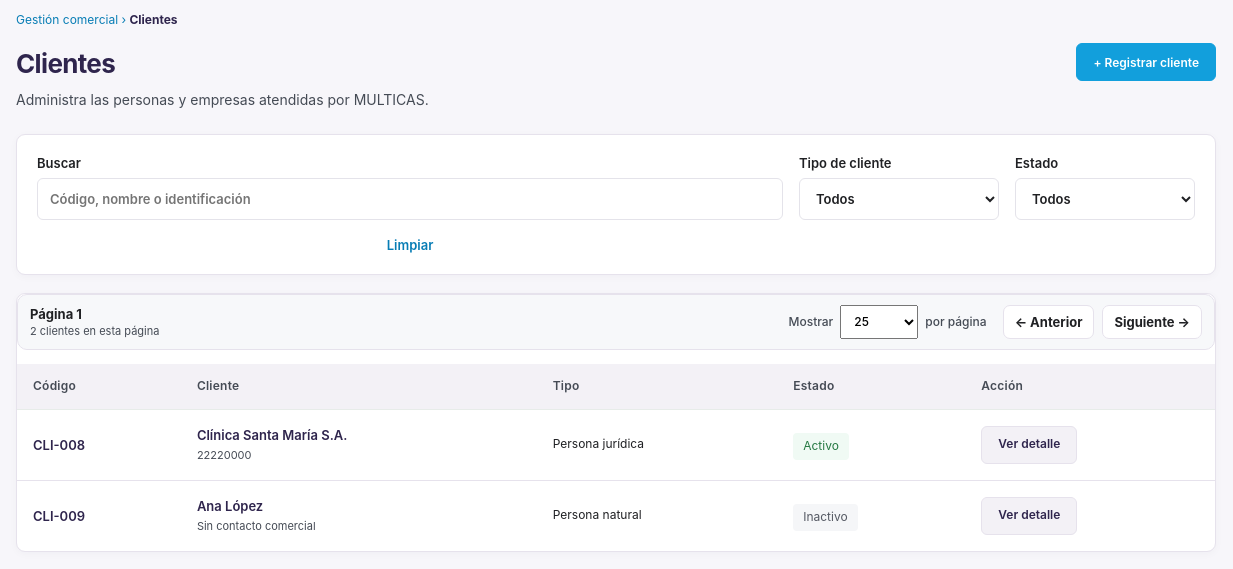
Clientes y ubicaciones en TrackOn › filtra por tipo y estado
Expected: the text "Ana López" is shown, [197,498,263,514]
Select "Persona natural" in the dropdown named "Filtrar tipo de cliente" at (899, 199), box [799,178,999,220]
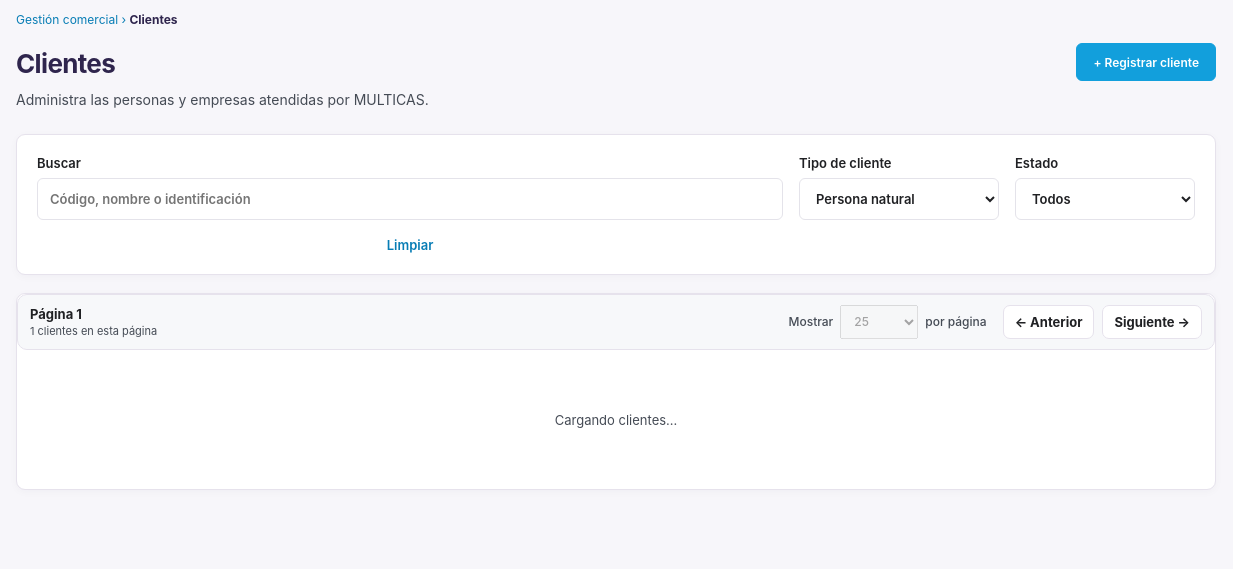
Now the text "Clínica Santa María S.A." is gone
Select "Activos" in the dropdown named "Filtrar estado de cliente" at (1105, 199), box [1015,178,1195,220]
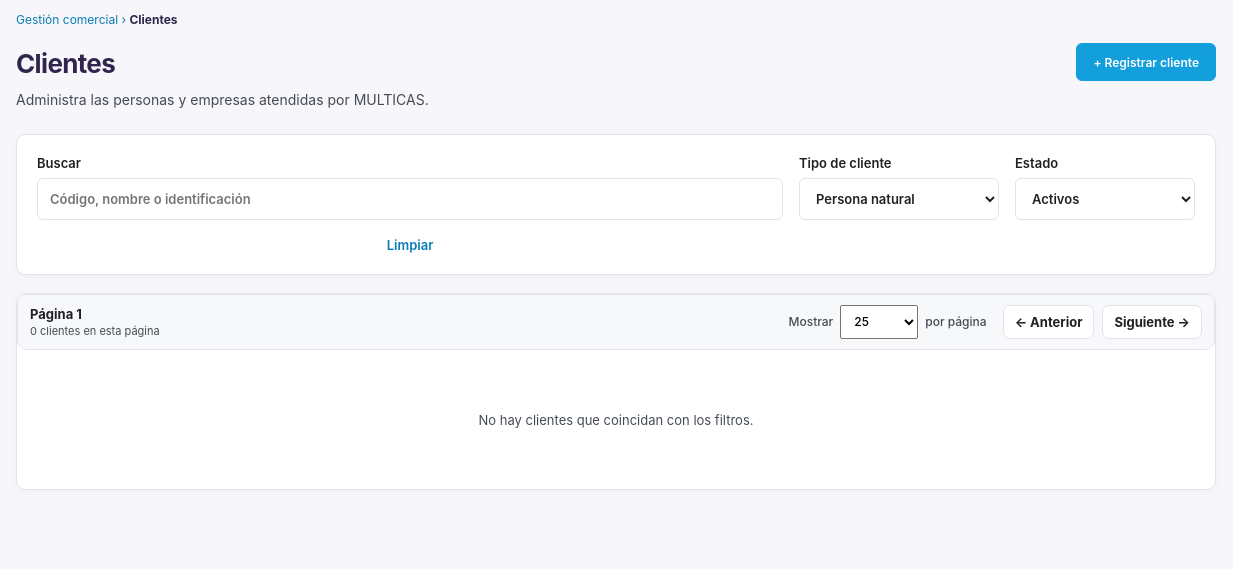
Now the text "No hay clientes que coincidan con los filtros." is shown, box [478,412,754,428]
